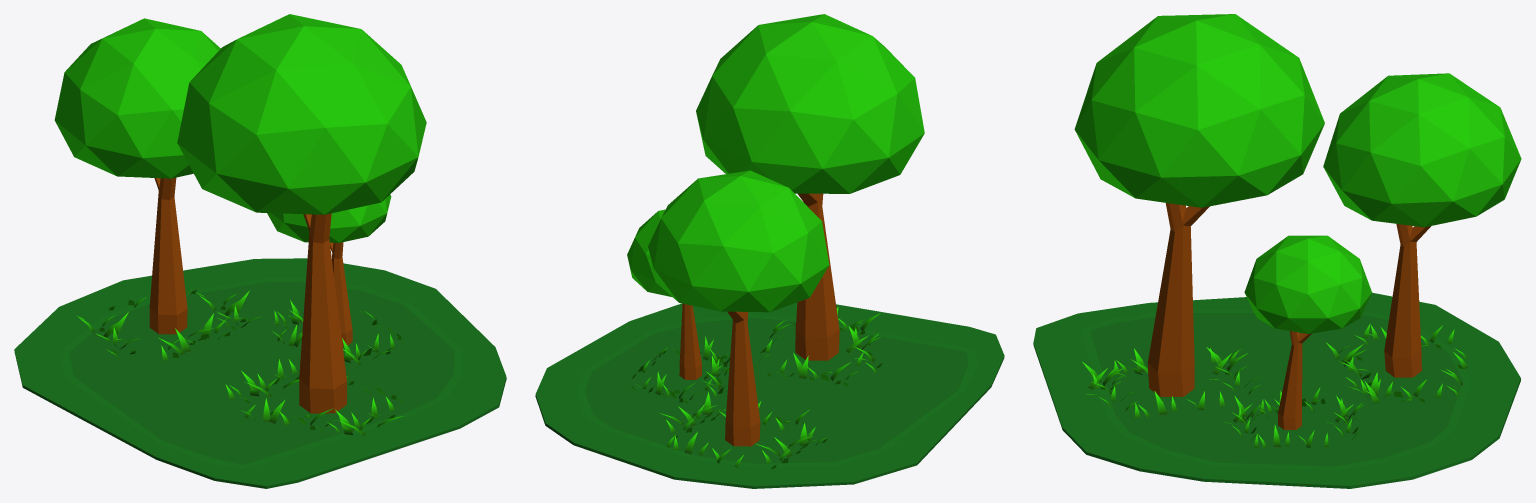
File: Trees.glb
3 renders of one model, left to right at view 1: azimuth 30°, elevation 25°; view 2: azimuth 150°, elevation 25°; view 3: azimuth 270°, elevation 25°, orthographic. The views are drawn at different scales.
Parts seen in each view (by area): view 1: Tree2.001; view 2: Tree2.001; view 3: Tree2.001.
Part boxes in pixels (x1,y1,x2,y2): Tree2.001: [14, 14, 506, 488]; Tree2.001: [535, 14, 1004, 488]; Tree2.001: [1033, 14, 1521, 488].
Bounding box in the file's own units: 2.88 × 2.52 × 3.03.
Materials: 2 (2 with a texture image).
